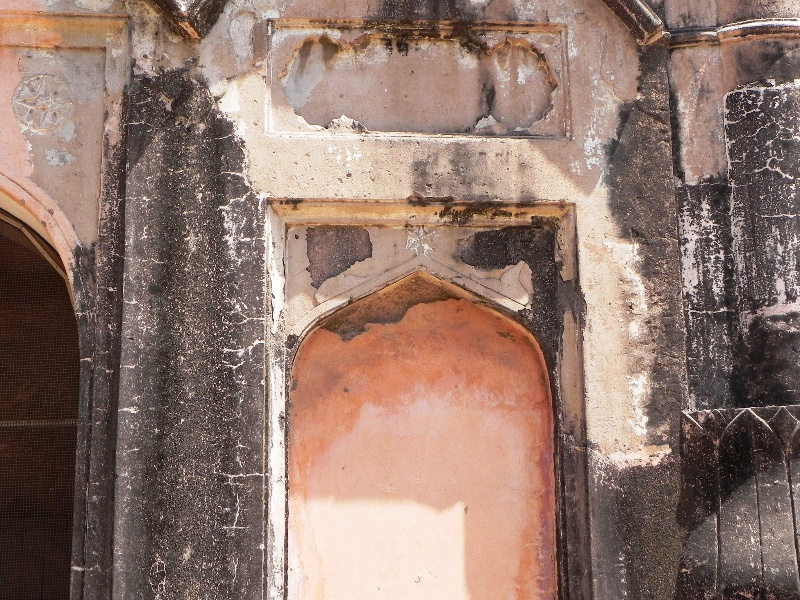Spalling: (325, 290, 466, 351), (464, 214, 570, 281), (291, 212, 376, 291)
